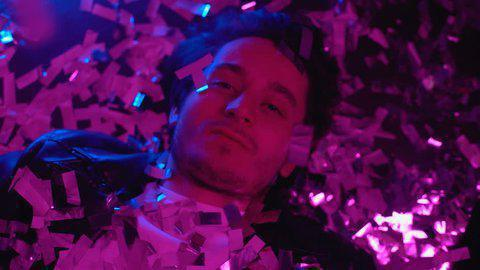Drunk: (195, 42, 293, 180)
